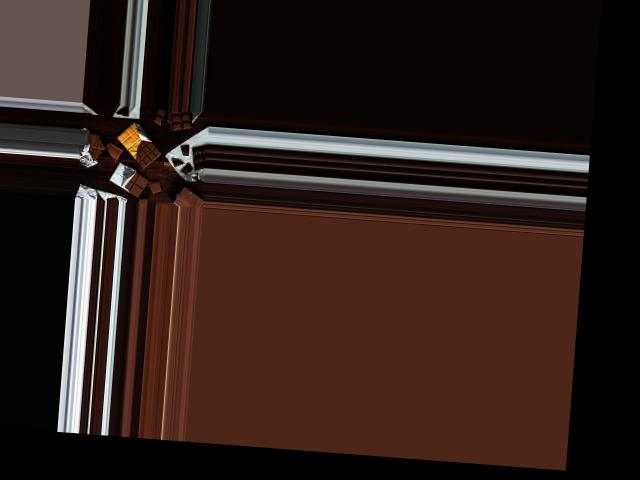chocolate: (110, 160, 149, 201)
